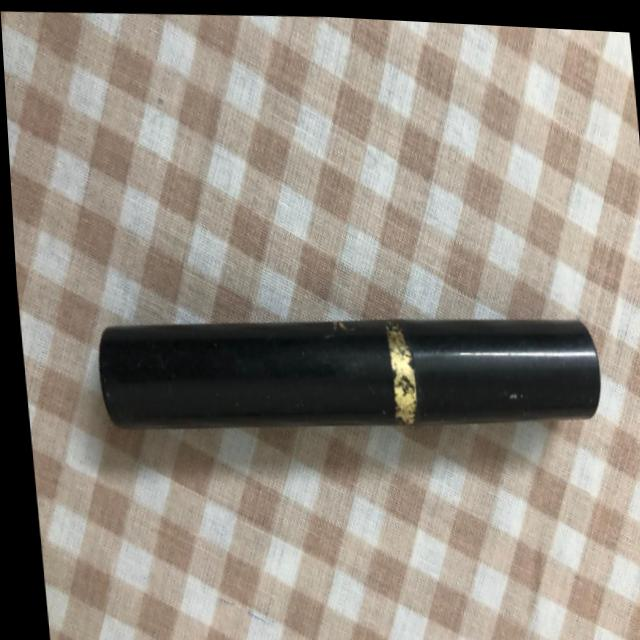mascara: (69, 240, 612, 469)
